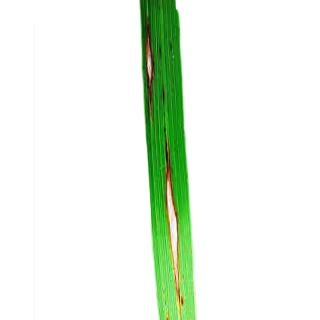Blast: (156, 136, 196, 314), (140, 15, 164, 110)
